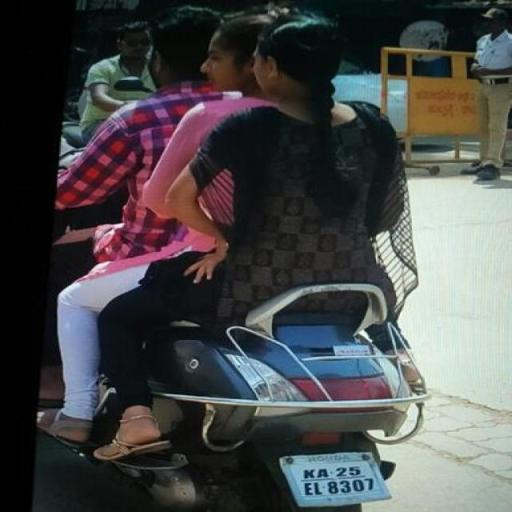tripple riding: (48, 6, 418, 289)
